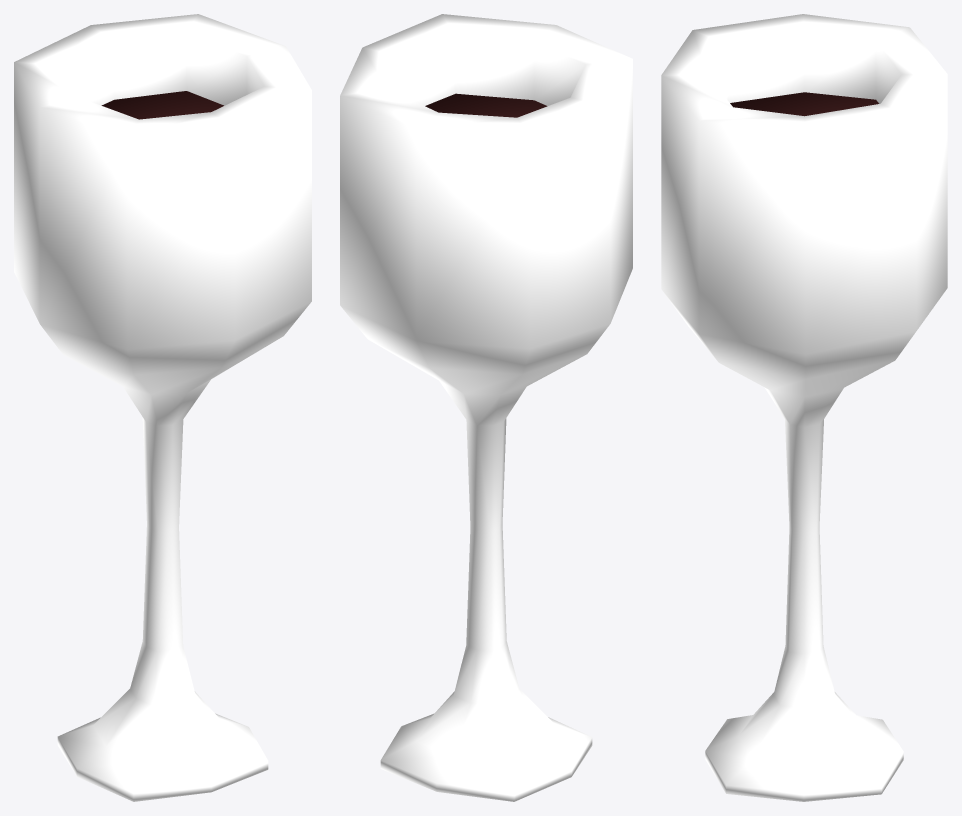
3 renders of one model, left to right at view 1: azimuth 30°, elevation 25°; view 2: azimuth 150°, elevation 25°; view 3: azimuth 270°, elevation 25°, orthographic.
Parts seen in each view (by area): view 1: WineGlassFull; view 2: WineGlassFull; view 3: WineGlassFull.
Part boxes in pixels (left/top/right/bottom): WineGlassFull: left=14, top=14, right=311, bottom=801; WineGlassFull: left=340, top=14, right=632, bottom=801; WineGlassFull: left=661, top=14, right=947, bottom=801.
Size of the model in its own units: 0.1172 by 0.3091 by 0.1167.
Materials: 2 (2 with a texture image).
